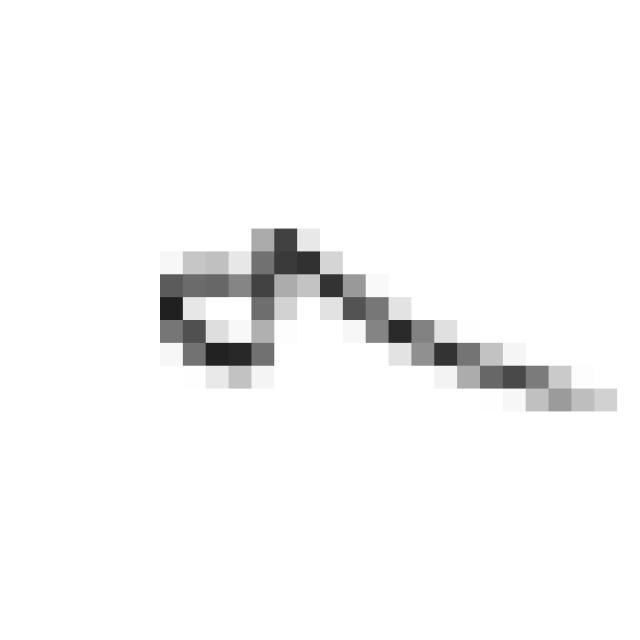9 -nine-: (142, 206, 626, 445)
